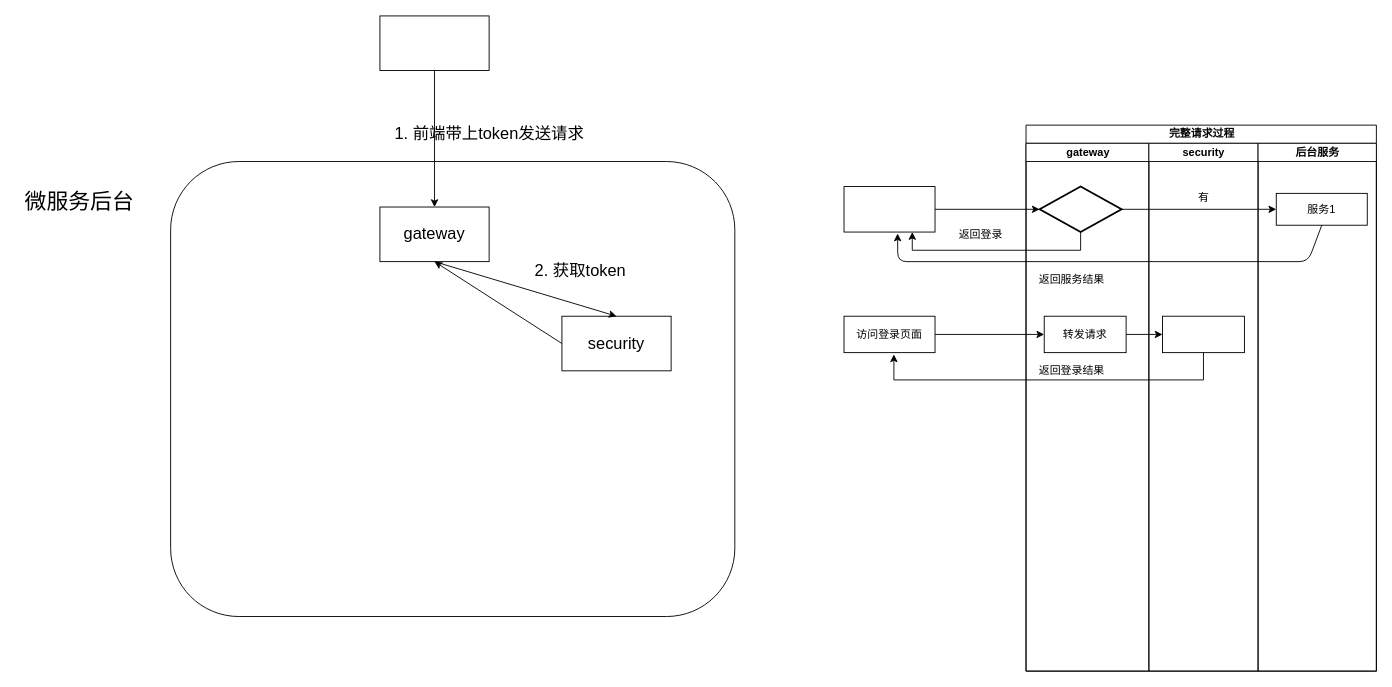
This 1392x687 diagram has some shape labels left out. Each missing label, with the centre of its shape:
"NGNIX" goes at pixel 434 43.
"是否有token" goes at pixel 1080 209.
"登录服务" goes at pixel 1203 334.
"访问页面" goes at pixel 889 209.
